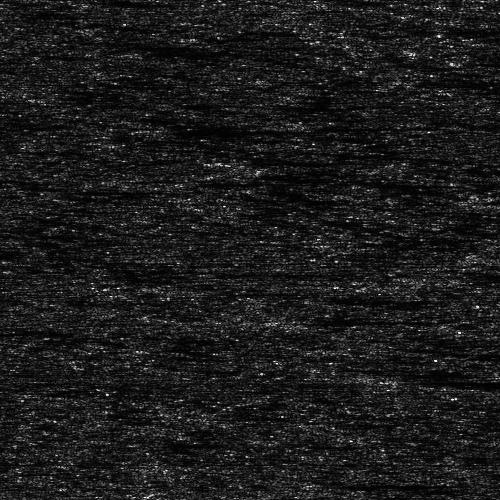rock: (194, 154, 277, 167), (243, 315, 326, 326), (156, 177, 229, 186), (357, 376, 430, 385), (123, 125, 164, 134)
shadow: (236, 154, 441, 167), (193, 177, 452, 186), (144, 125, 336, 134), (285, 315, 395, 326), (394, 376, 500, 385)
